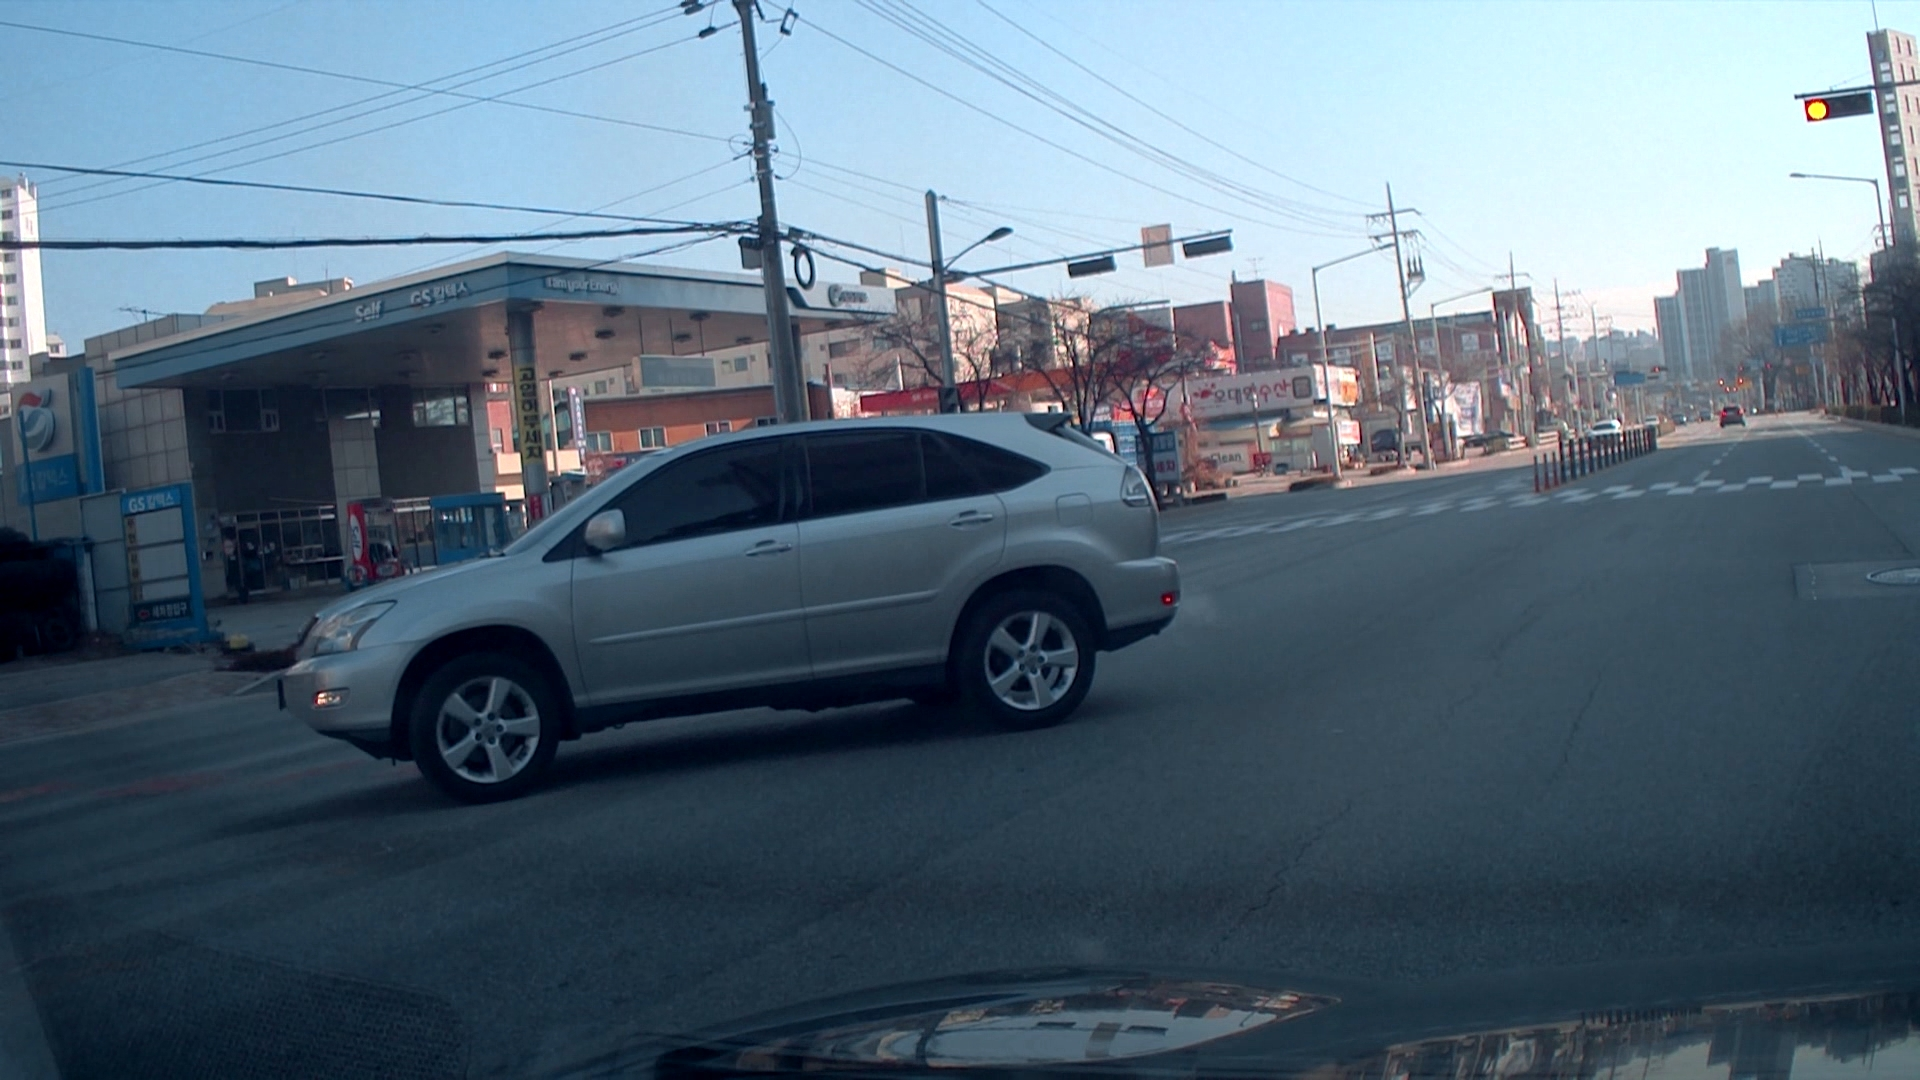trafficLight: (1803, 88, 1875, 123)
